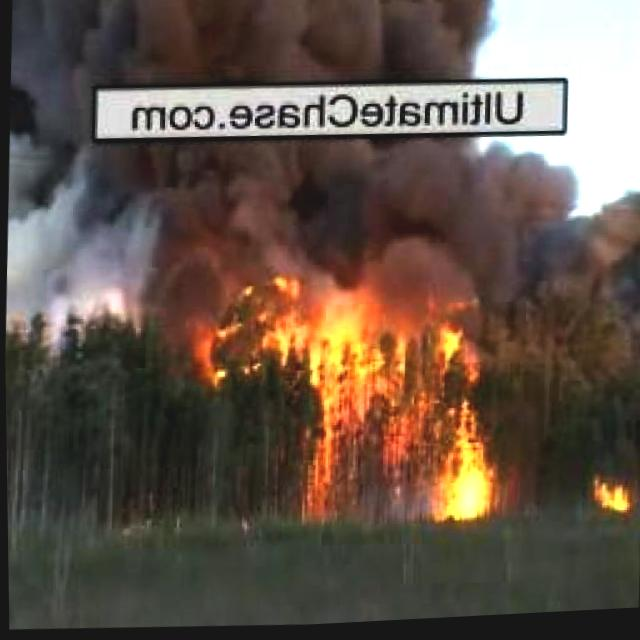Fire: (305, 301, 501, 546), (190, 271, 295, 387), (574, 472, 625, 526)
Smoke: (2, 121, 640, 367), (10, 0, 487, 100)
